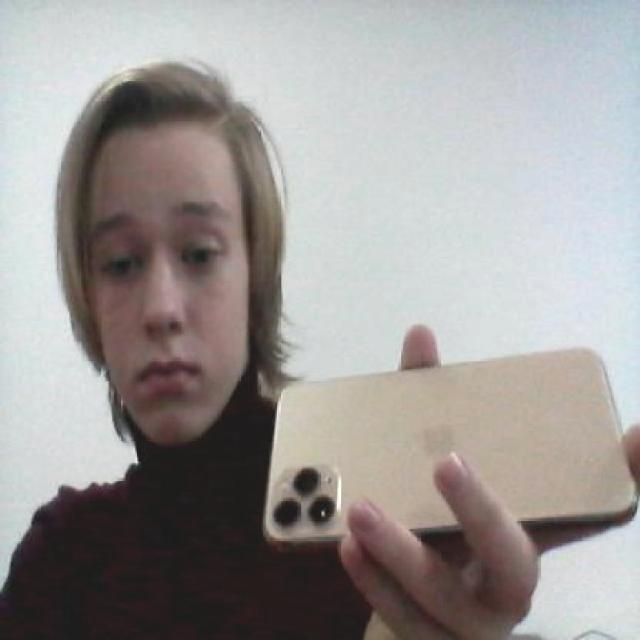phone: (256, 323, 629, 562)
